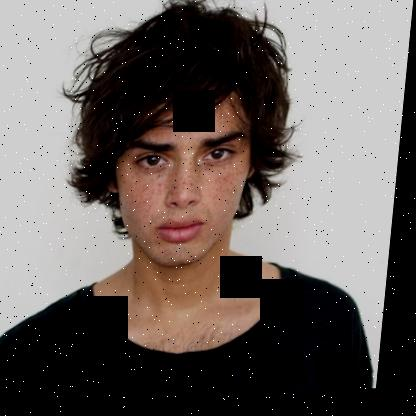Male: (104, 82, 267, 273)
